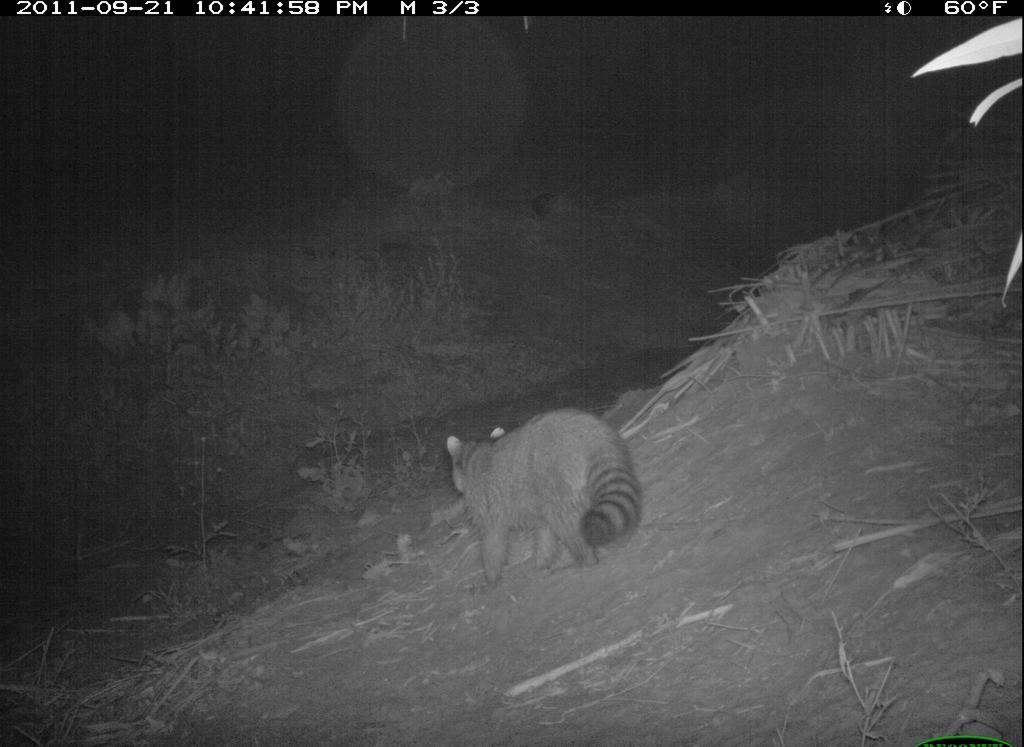raccoon: (443, 404, 647, 592)
